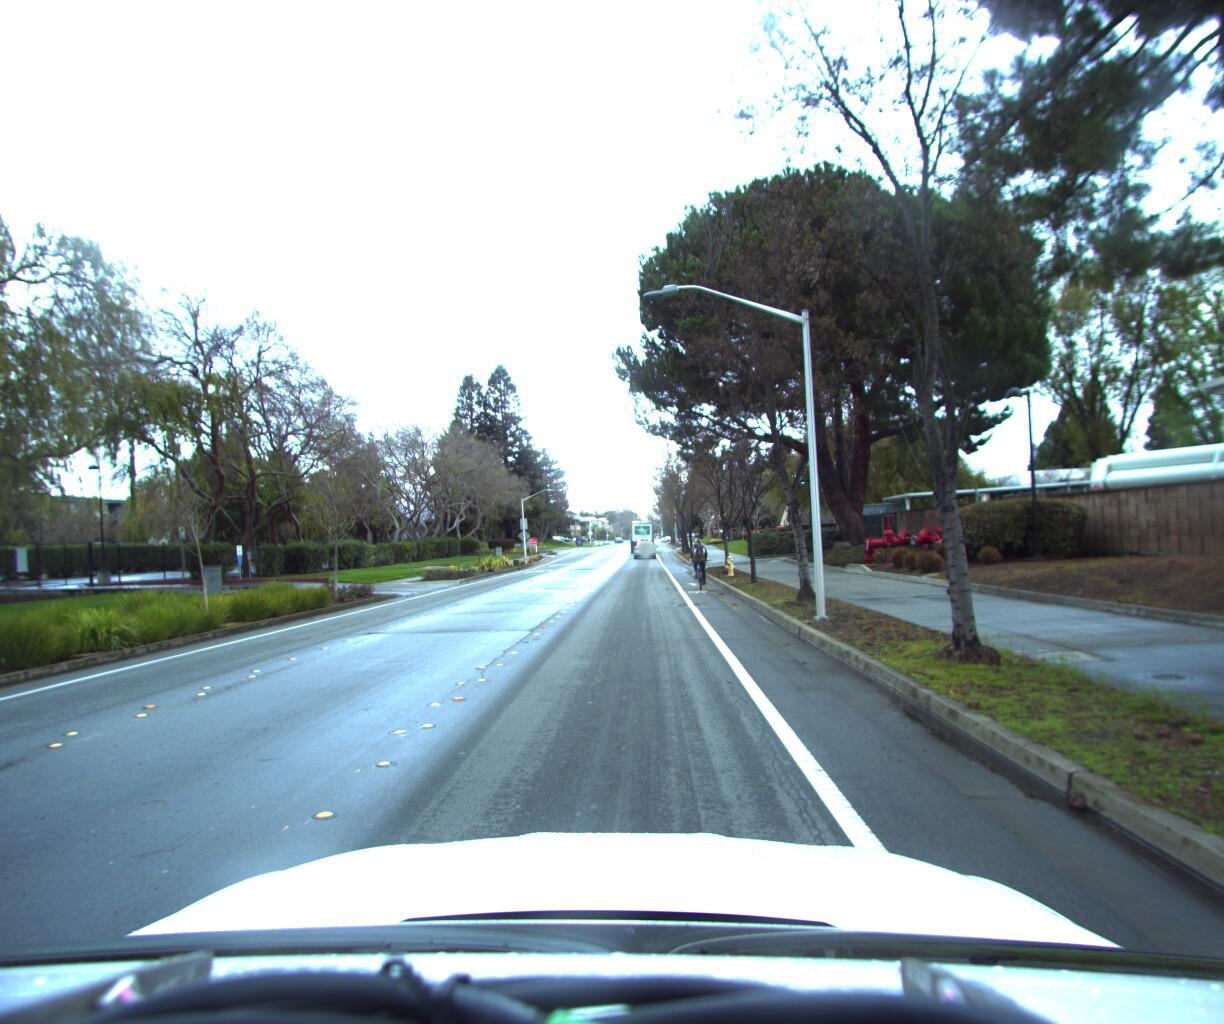bicycle: (687, 533, 712, 587)
car: (634, 540, 657, 560)
truck: (629, 518, 662, 554)
